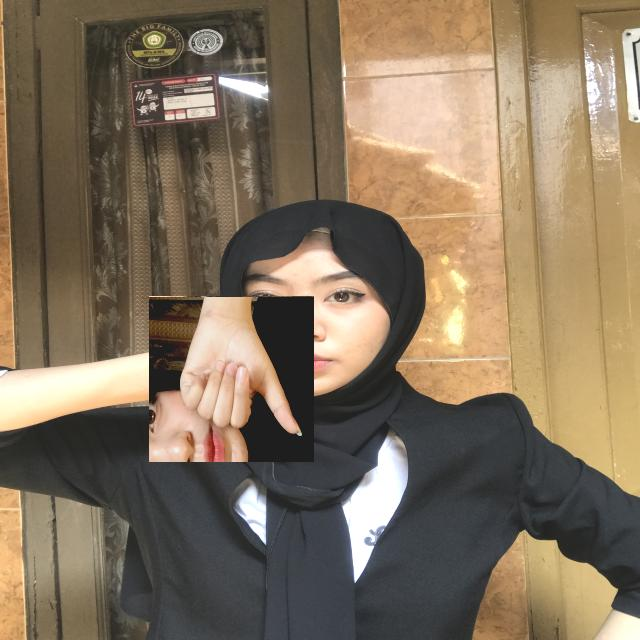sedih: (149, 297, 314, 462)
